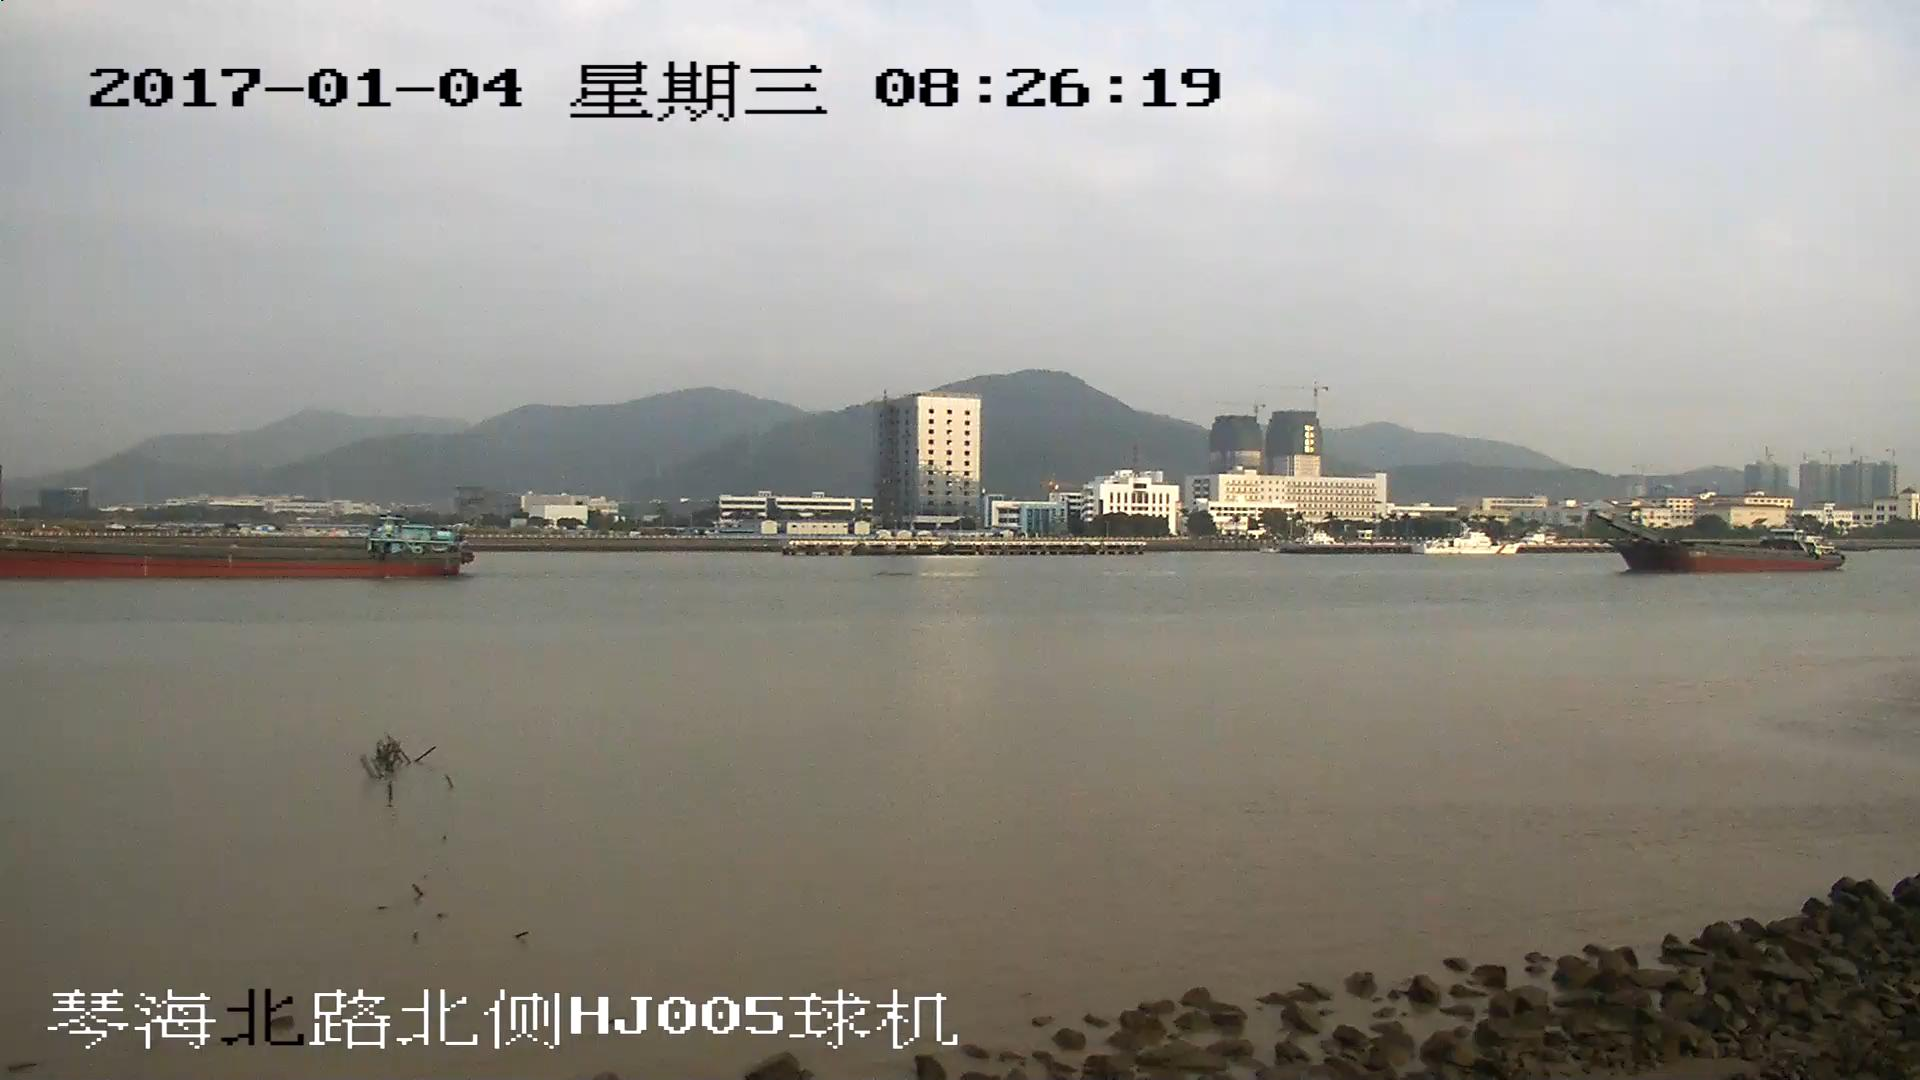bulk cargo carrier: (1, 522, 472, 577), (1589, 508, 1844, 568)
